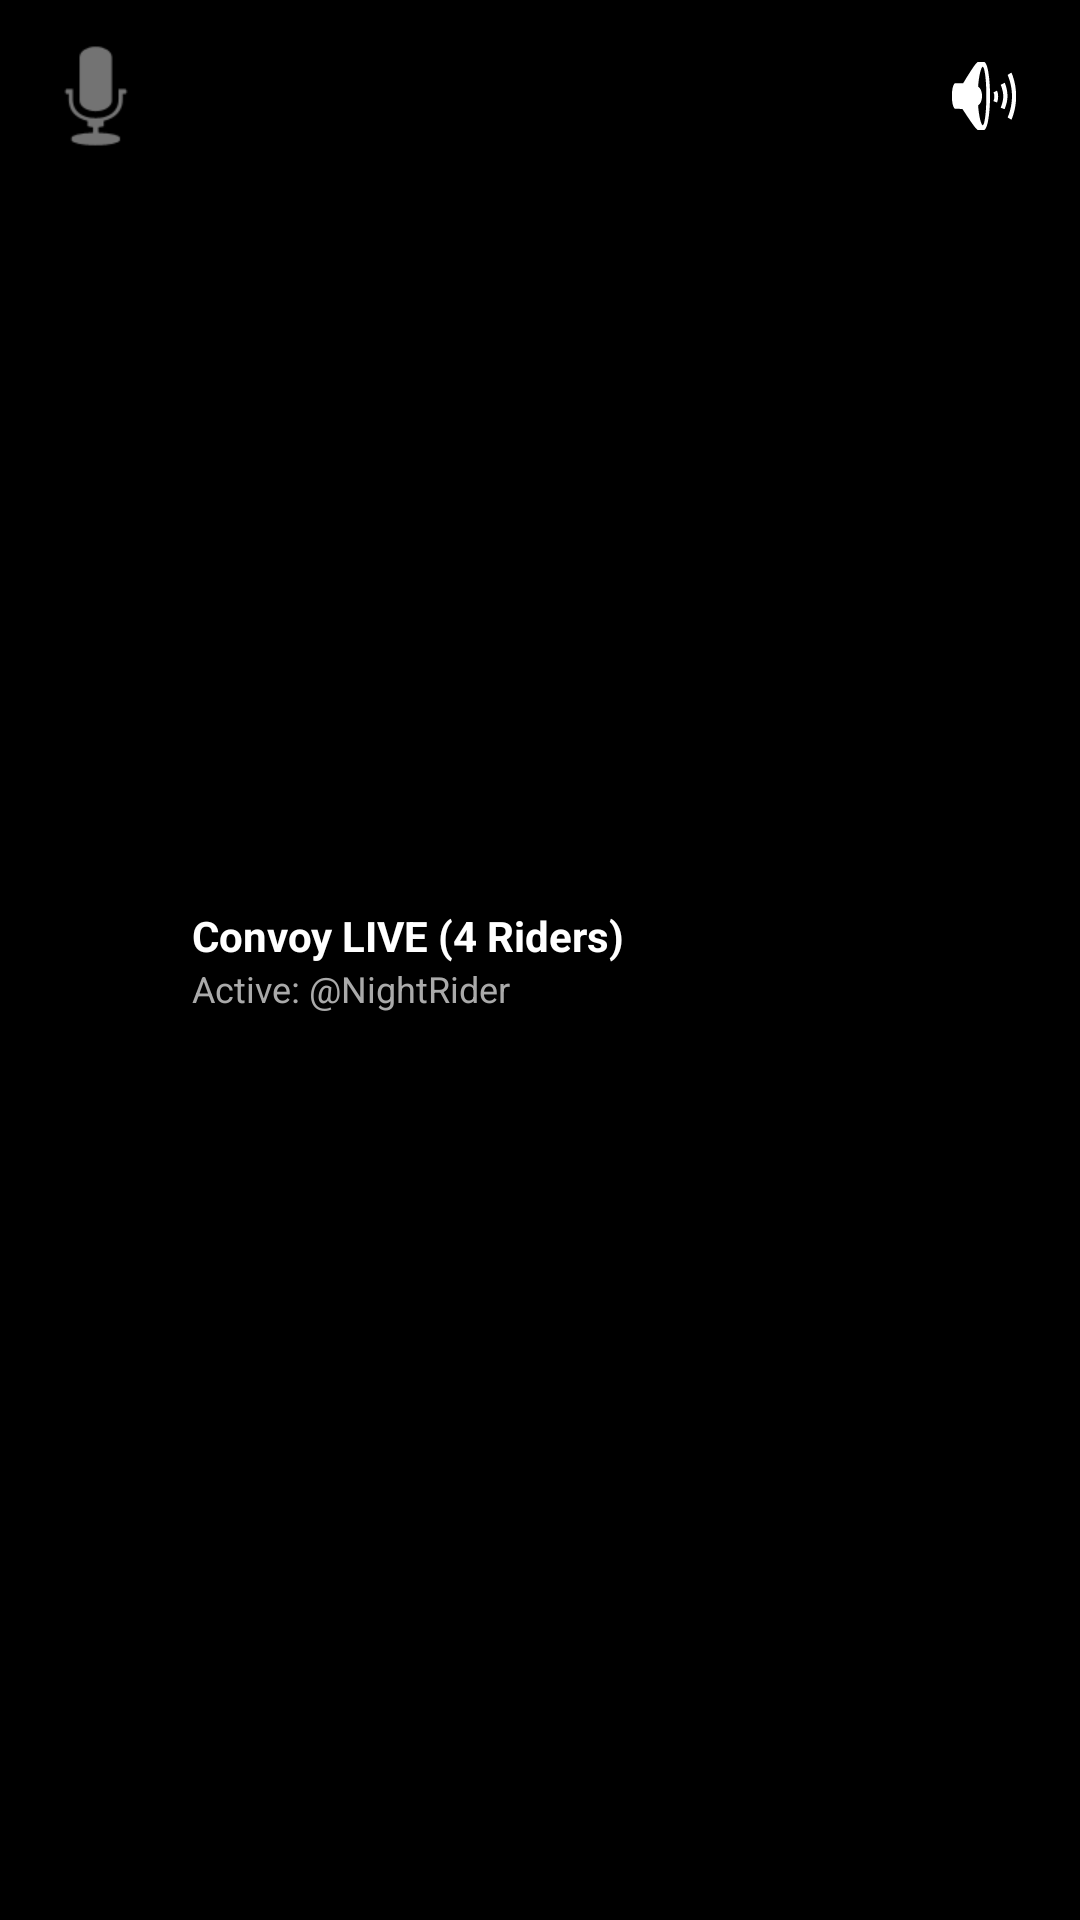

Icons on this 1080 × 1920 Android screen, each with the point to tap as (x=x, y=y):
Mute: (x=984, y=96)
